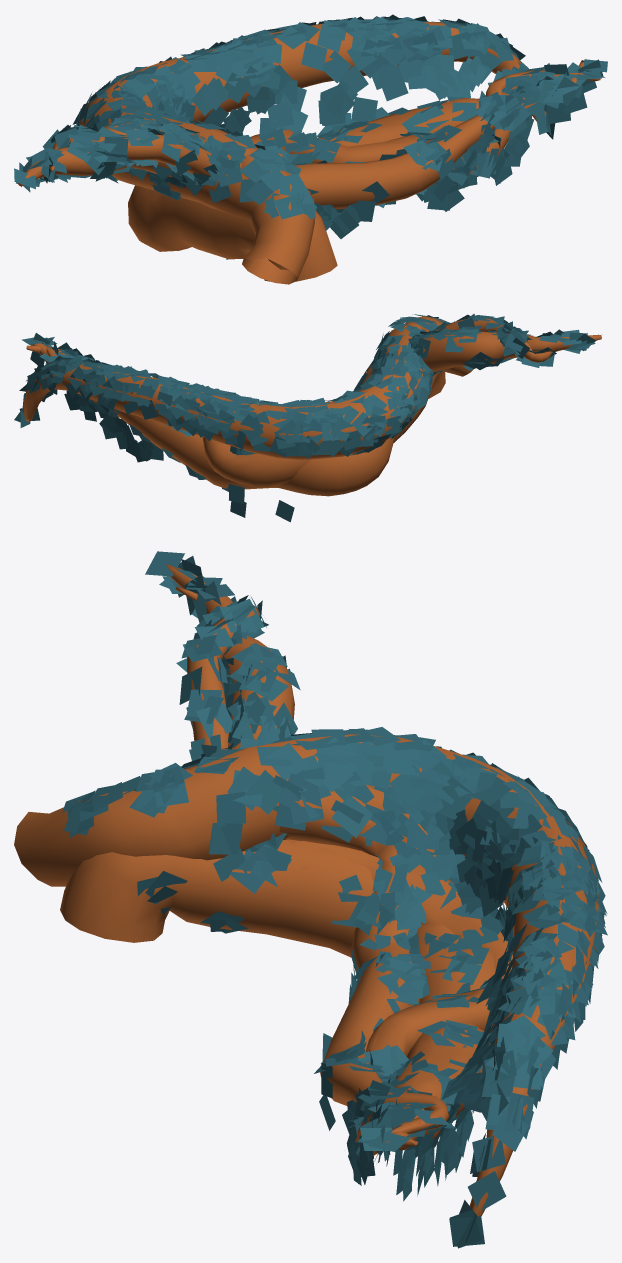
The model's file is branch_bridges_5_LOD.fbx.
3 views of the same model, one above another, from view 1: azimuth 30°, elevation 25°; view 2: azimuth 150°, elevation 25°; view 3: azimuth 270°, elevation 25° (orthographic). The views are drawn at different scales.
Parts seen in each view (by area): view 1: vine_leaves_5_LOD_0, bridge_with_leaves_5_LOD_0; view 2: vine_leaves_5_LOD_0, bridge_with_leaves_5_LOD_0; view 3: vine_leaves_5_LOD_0, bridge_with_leaves_5_LOD_0.
Part boxes in pixels (x1,y1,x2,y2): vine_leaves_5_LOD_0: (14,14,607,259); bridge_with_leaves_5_LOD_0: (18,22,600,284); vine_leaves_5_LOD_0: (14,314,598,522); bridge_with_leaves_5_LOD_0: (23,315,601,496); vine_leaves_5_LOD_0: (62,551,607,1248); bridge_with_leaves_5_LOD_0: (14,564,598,1216).
Size of what is drawn, in the model's own units: 1990 by 691 by 1107.
